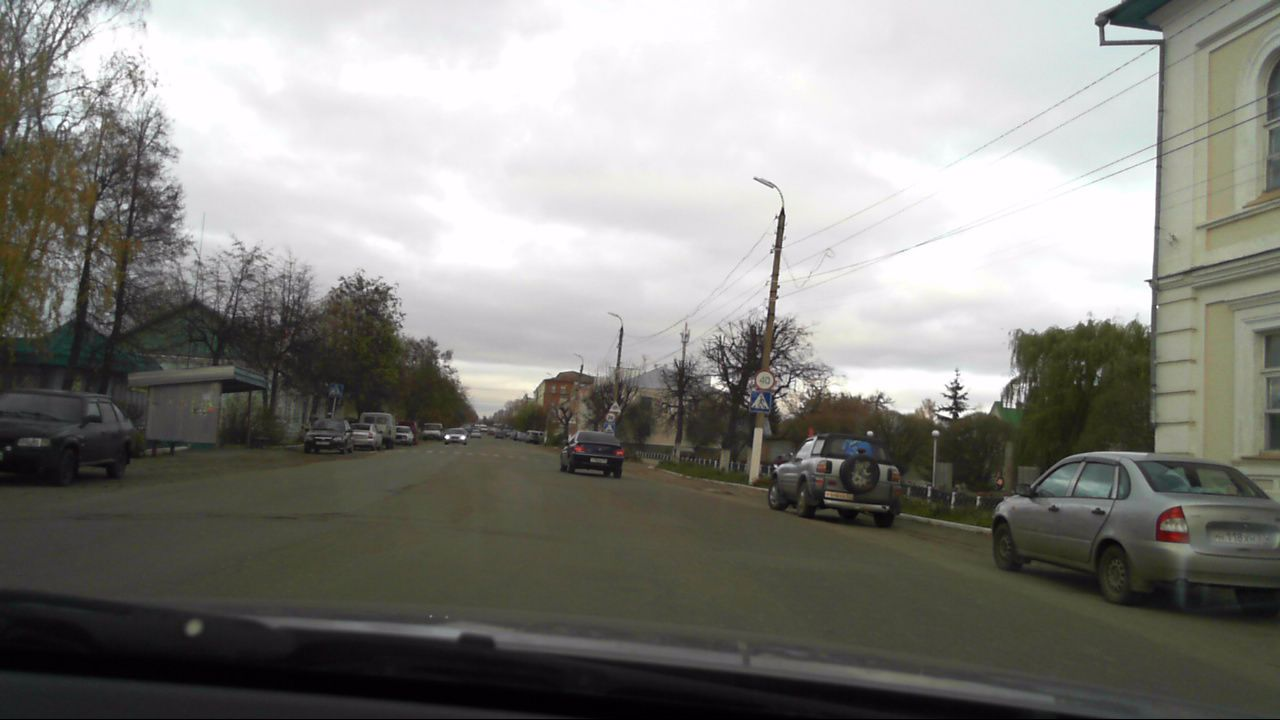speed_warning_40: (753, 369, 774, 390)
